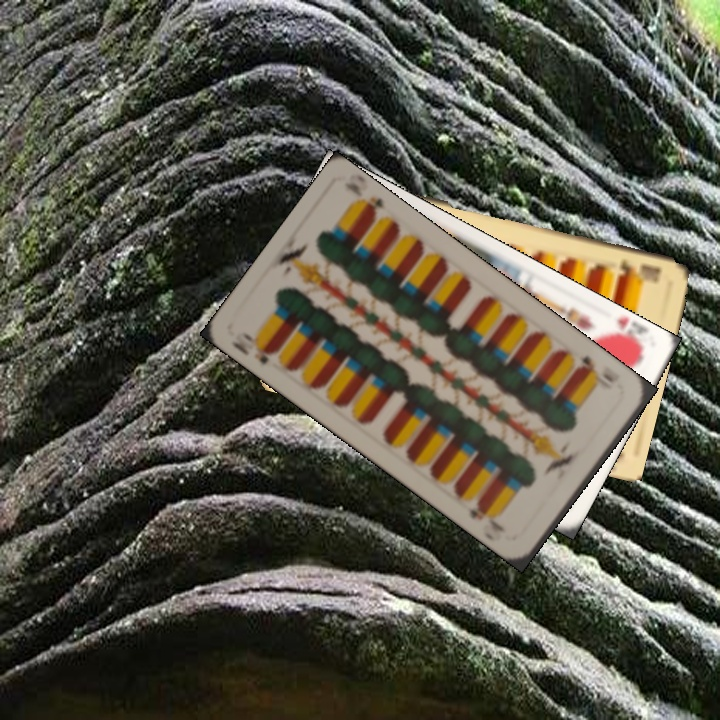E10: (226, 328, 280, 367), (573, 351, 616, 392), (615, 255, 664, 287)
HK: (604, 314, 650, 355)
